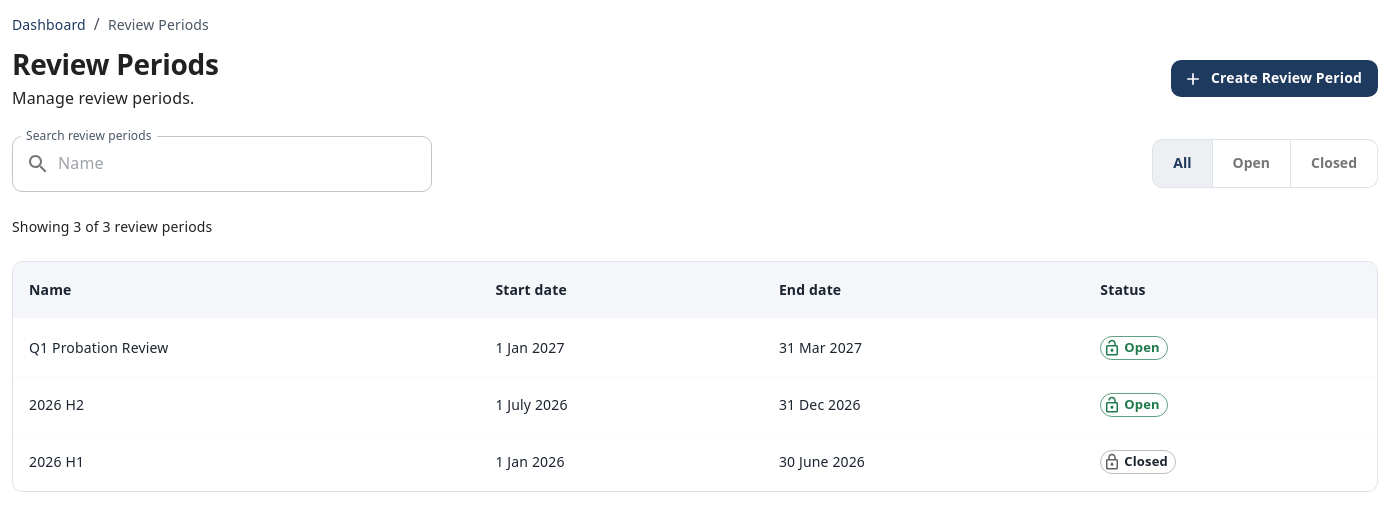
Test: searching and filtering › explains when nothing matches, and Clear filters brings everything back
Check: the text "Showing 3 of 3 review periods" is shown, box [12,217,212,236]
Type "zzz" into the search field labelled "Search review periods".
click(245, 164); type("zzz")  # box [58,136,432,192]
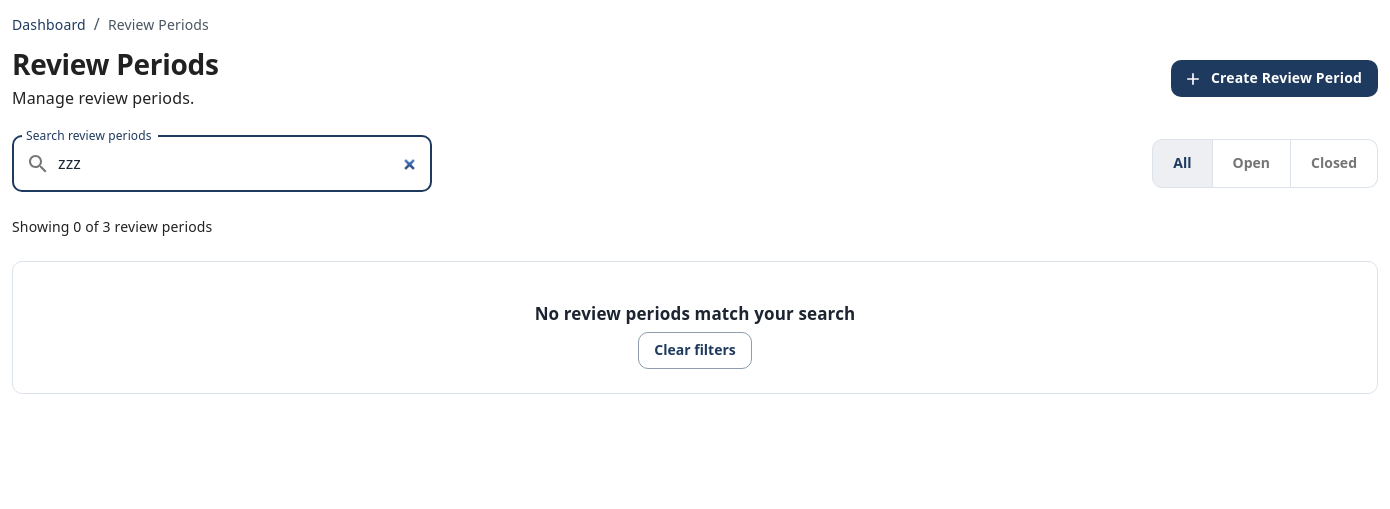
Click the button "Closed".
click(1334, 164)  # box [1290,139,1378,188]
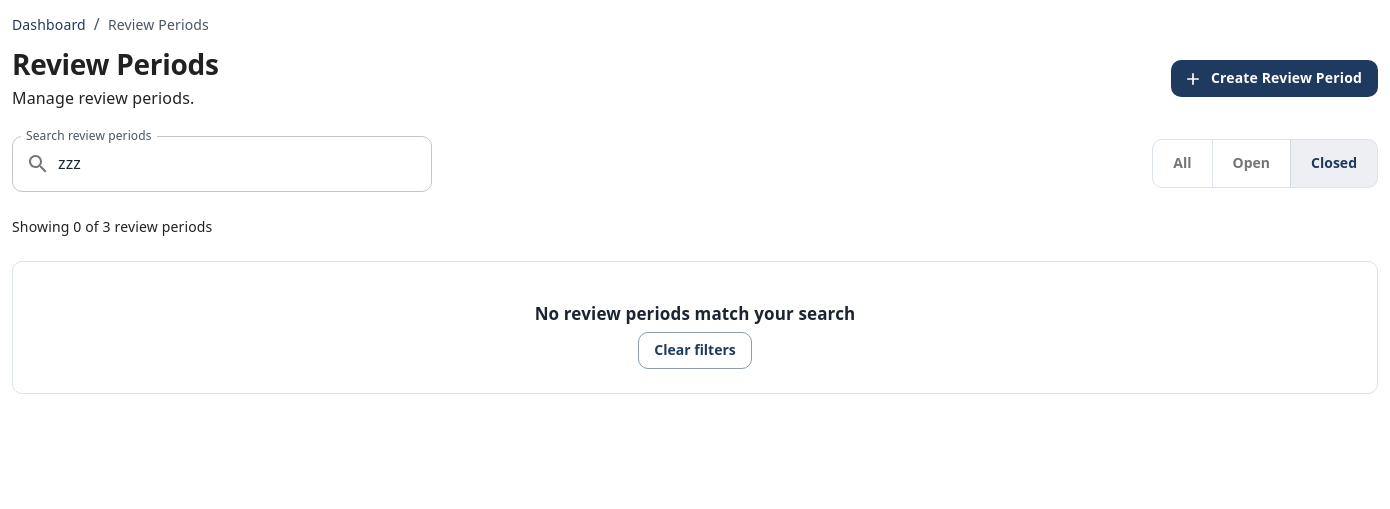
Check: the heading "No review periods match your search" is shown, box [535,302,855,325]
Check: the text "Showing 0 of 3 review periods" is shown, box [12,217,212,236]
Click the button "Clear filters".
click(695, 350)  # box [638,332,752,368]
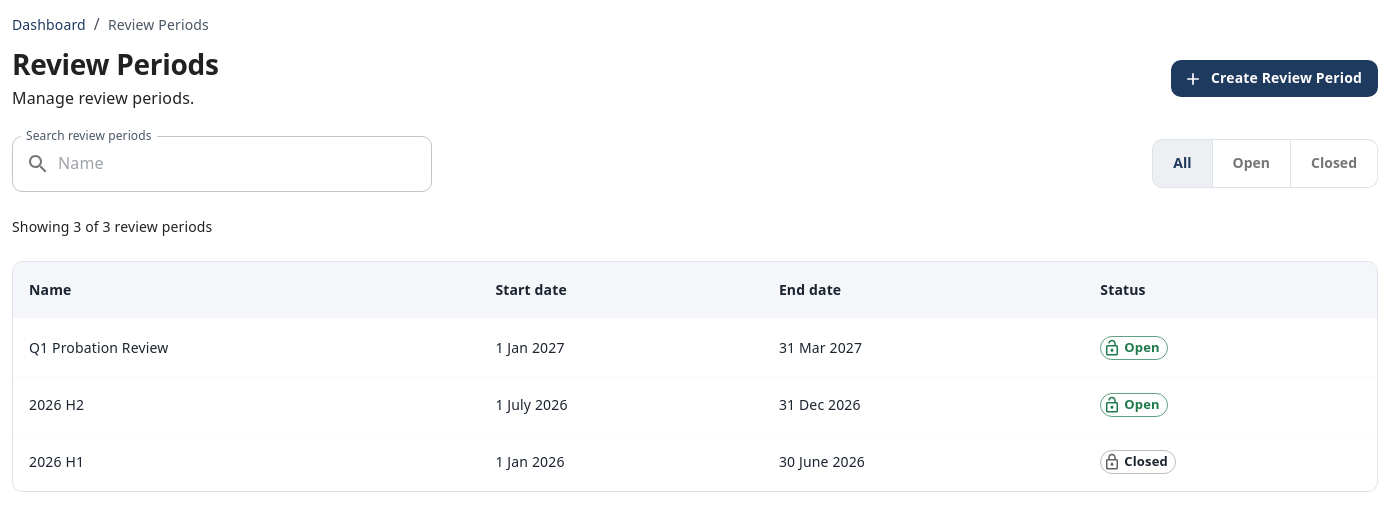
Check: the search field labelled "Search review periods" is empty, box [58,136,432,192]
